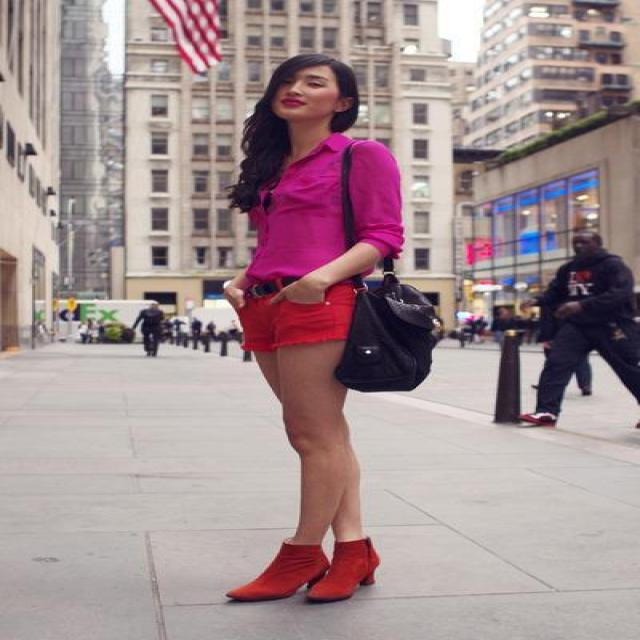bag: (332, 274, 442, 392)
shirt: (243, 120, 403, 278)
shoe: (225, 538, 378, 604)
shorts: (235, 275, 363, 352)
